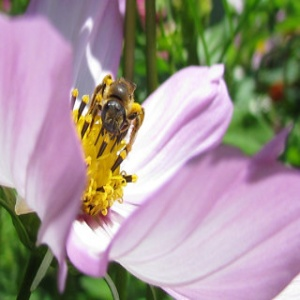bee: (95, 75, 144, 175)
